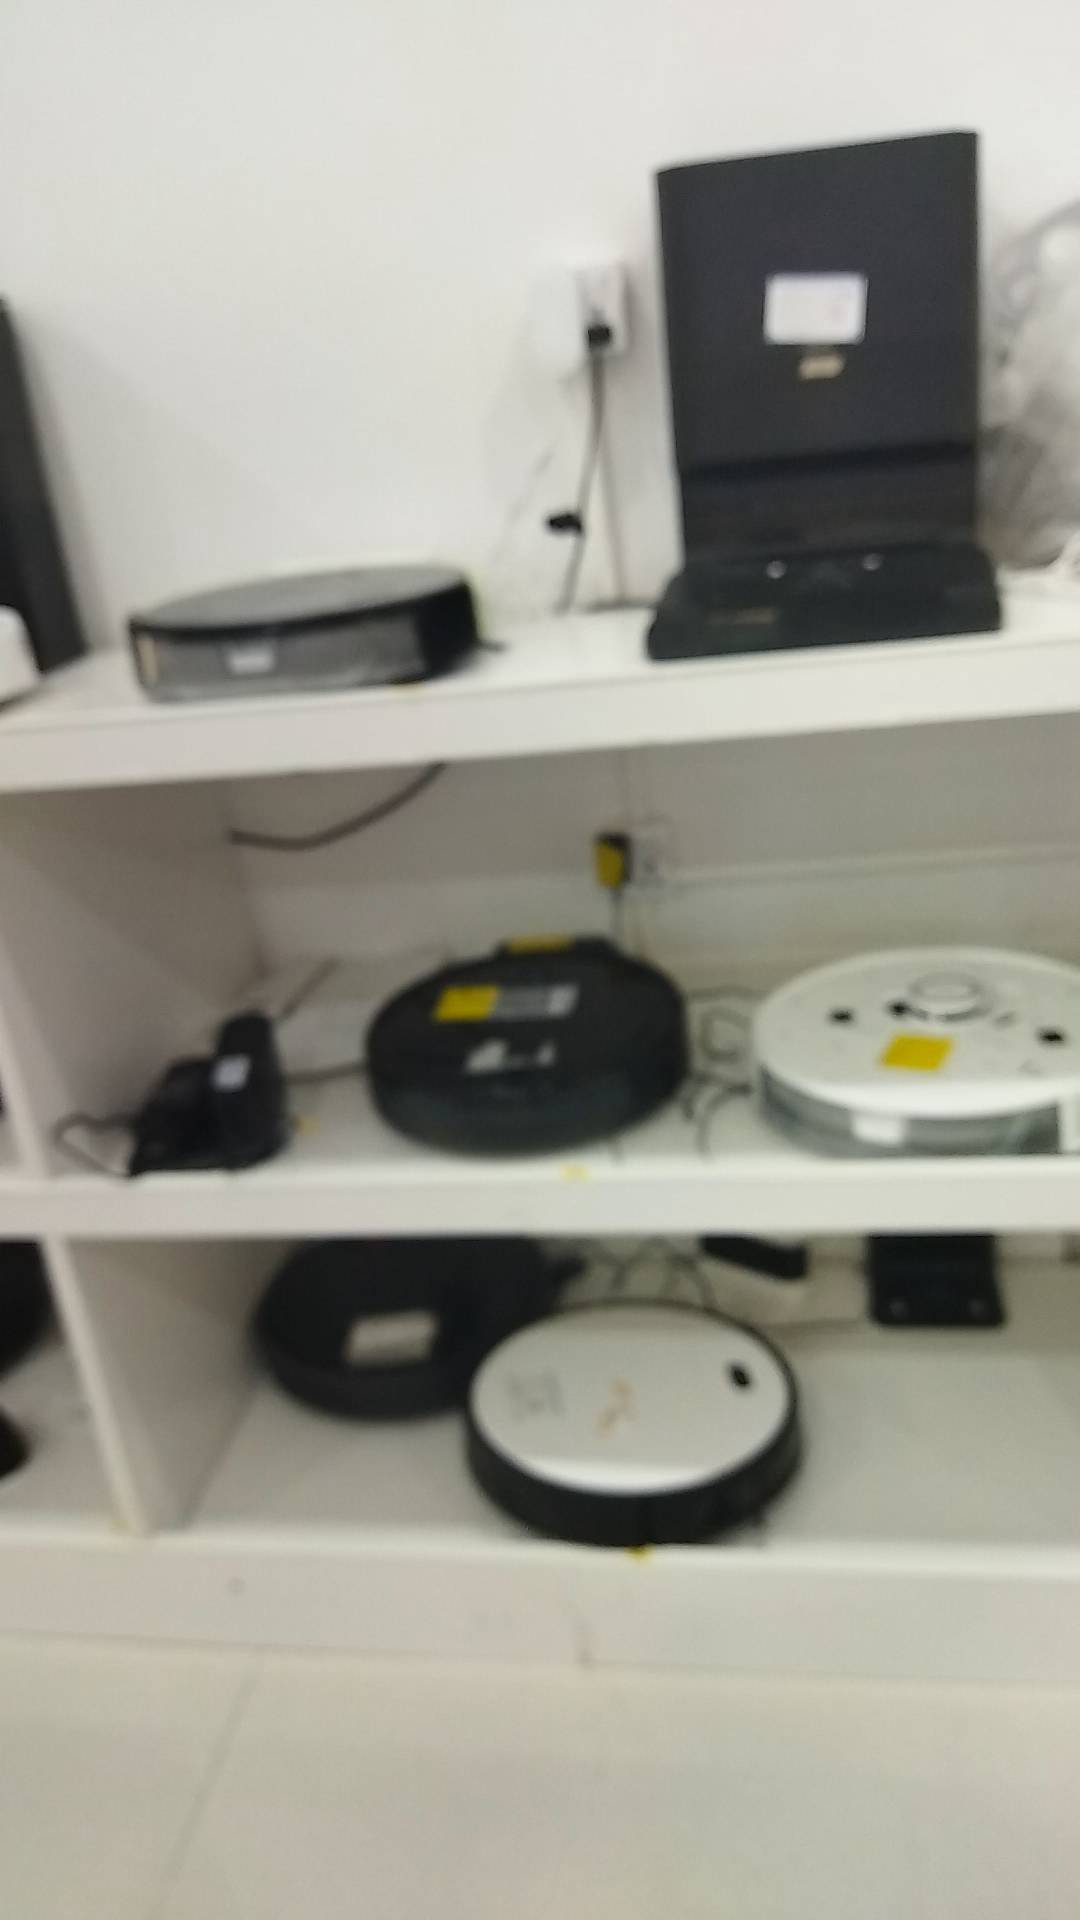dust collecting barrel: (644, 128, 1005, 663)
recharge seat: (132, 1011, 291, 1172), (657, 1230, 816, 1335), (858, 1236, 1014, 1331)
